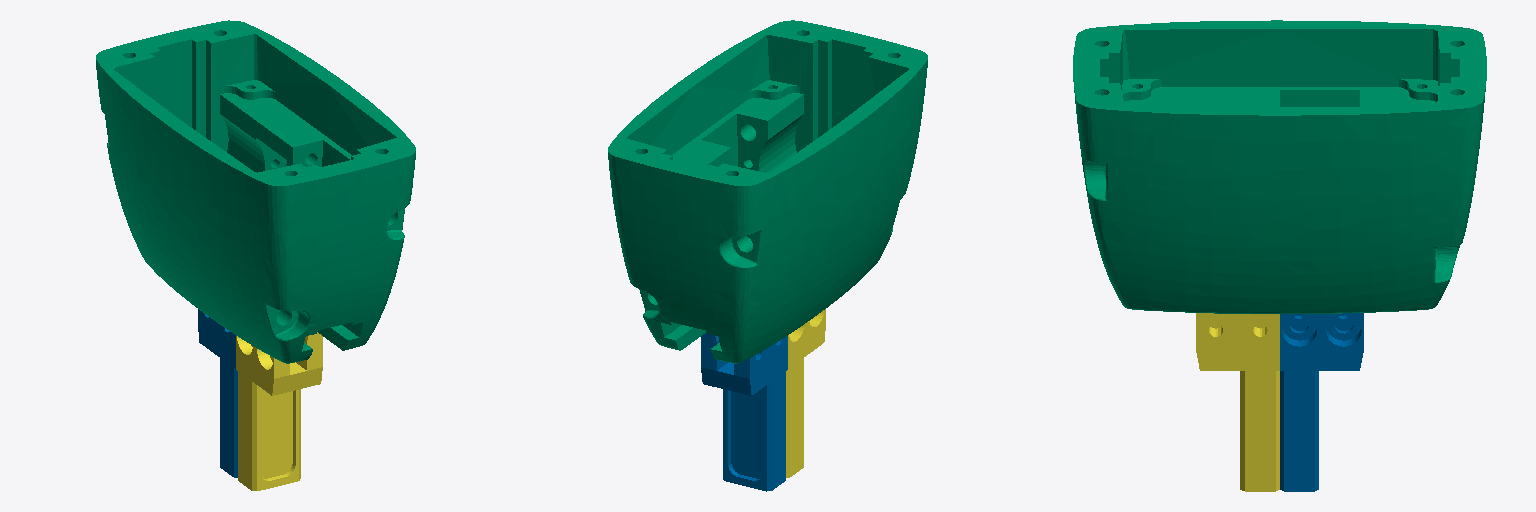
The robot description file, URDF, robot "motoman_motomini":
<?xml version="1.0" ?>
<!-- =================================================================================== -->
<!-- |    This document was autogenerated by xacro from motoman_description/robots/motomini/motomini_with_gripper.urdf.xacro | -->
<!-- |    EDITING THIS FILE BY HAND IS NOT RECOMMENDED                                 | -->
<!-- =================================================================================== -->
<robot name="motoman_motomini" xmlns:controller="http://playerstage.sourceforge.net/gazebo/xmlschema/#controller" xmlns:interface="http://playerstage.sourceforge.net/gazebo/xmlschema/#interface" xmlns:sensor="http://playerstage.sourceforge.net/gazebo/xmlschema/#sensor" xmlns:xacro="http://ros.org/wiki/xacro">
  <material name="black">
    <color rgba="0.0 0.0 0.0 1.0"/>
  </material>
  <material name="blue">
    <color rgba="0.0 0.0 0.8 1.0"/>
  </material>
  <material name="green">
    <color rgba="0.0 0.8 0.0 1.0"/>
  </material>
  <material name="grey">
    <color rgba="0.2 0.2 0.2 1.0"/>
  </material>
  <material name="orange">
    <color rgba="1.0 0.423529411765 0.0392156862745 1.0"/>
  </material>
  <material name="brown">
    <color rgba="0.870588235294 0.811764705882 0.764705882353 1.0"/>
  </material>
  <material name="red">
    <color rgba="0.8 0.0 0.0 1.0"/>
  </material>
  <material name="white">
    <color rgba="1.0 1.0 1.0 1.0"/>
  </material>
  <material name="yaskawa_blue">
    <color rgba="0.12941 0.14902 0.74902 1"/>
  </material>
  <link name="base_link">
    <visual>
      <geometry>
        <mesh filename="package://motoman_description/meshes/motomini/visual/base_link.stl"/>
      </geometry>
      <material name="yaskawa_blue"/>
    </visual>
    <collision>
      <geometry>
        <mesh filename="package://motoman_description/meshes/motomini/collision/base_link.stl"/>
      </geometry>
    </collision>
    <inertial>
      <origin rpy="0 0 0" xyz="0 0 0"/>
      <mass value="1.57894736842"/>
      <inertia ixx="0.00335213815789" ixy="0" ixz="0" iyy="0.00796650131579" iyz="0" izz="0.00866067894737"/>
    </inertial>
  </link>
  <link name="link_1_s">
    <visual>
      <geometry>
        <mesh filename="package://motoman_description/meshes/motomini/visual/link_1_s.stl"/>
      </geometry>
      <material name="yaskawa_blue"/>
    </visual>
    <collision>
      <geometry>
        <mesh filename="package://motoman_description/meshes/motomini/collision/link_1_s.stl"/>
      </geometry>
    </collision>
    <inertial>
      <origin rpy="0 0 0" xyz="0 0 0"/>
      <mass value="1.57894736842"/>
      <inertia ixx="0.00457279605263" ixy="0" ixz="0" iyy="0.00462006578947" iyz="0" izz="0.00377384868421"/>
    </inertial>
  </link>
  <link name="link_2_l">
    <visual>
      <geometry>
        <mesh filename="package://motoman_description/meshes/motomini/visual/link_2_l.stl"/>
      </geometry>
      <material name="yaskawa_blue"/>
    </visual>
    <collision>
      <geometry>
        <mesh filename="package://motoman_description/meshes/motomini/collision/link_2_l.stl"/>
      </geometry>
    </collision>
    <inertial>
      <origin rpy="0 0 0" xyz="0 0 0"/>
      <mass value="1.57894736842"/>
      <inertia ixx="0.00386766842105" ixy="0" ixz="0" iyy="0.0101251894737" iyz="0" izz="0.00928168947368"/>
    </inertial>
  </link>
  <link name="link_3_u">
    <visual>
      <geometry>
        <mesh filename="package://motoman_description/meshes/motomini/visual/link_3_u.stl"/>
      </geometry>
      <material name="yaskawa_blue"/>
    </visual>
    <collision>
      <geometry>
        <mesh filename="package://motoman_description/meshes/motomini/collision/link_3_u.stl"/>
      </geometry>
    </collision>
    <inertial>
      <origin rpy="0 0 0" xyz="0 0 0"/>
      <mass value="0.526315789474"/>
      <inertia ixx="0.000554353070175" ixy="0" ixz="0" iyy="0.000830310964912" iyz="0" izz="0.000743414035088"/>
    </inertial>
  </link>
  <link name="link_4_r">
    <visual>
      <geometry>
        <mesh filename="package://motoman_description/meshes/motomini/visual/link_4_r.stl"/>
      </geometry>
      <material name="yaskawa_blue"/>
    </visual>
    <collision>
      <geometry>
        <mesh filename="package://motoman_description/meshes/motomini/collision/link_4_r.stl"/>
      </geometry>
    </collision>
    <inertial>
      <origin rpy="0 0 0" xyz="0 0 0"/>
      <mass value="0.526315789474"/>
      <inertia ixx="0.00194845350877" ixy="0" ixz="0" iyy="0.00193777412281" iyz="0" izz="0.000769363596491"/>
    </inertial>
  </link>
  <link name="link_5_b">
    <visual>
      <geometry>
        <mesh filename="package://motoman_description/meshes/motomini/visual/link_5_b.stl"/>
      </geometry>
      <material name="yaskawa_blue"/>
    </visual>
    <collision>
      <geometry>
        <mesh filename="package://motoman_description/meshes/motomini/collision/link_5_b.stl"/>
      </geometry>
    </collision>
    <inertial>
      <origin rpy="0 0 0" xyz="0 0 0"/>
      <mass value="0.526315789474"/>
      <inertia ixx="0.000357912719298" ixy="0" ixz="0" iyy="0.000421600877193" iyz="0" izz="0.000493512719298"/>
    </inertial>
  </link>
  <link name="link_6_t">
    <visual>
      <geometry>
        <mesh filename="package://motoman_description/meshes/motomini/visual/link_6_t.stl"/>
      </geometry>
      <material name="yaskawa_blue"/>
    </visual>
    <collision>
      <geometry>
        <mesh filename="package://motoman_description/meshes/motomini/collision/link_6_t.stl"/>
      </geometry>
    </collision>
    <inertial>
      <origin rpy="0 0 0" xyz="0 0 0"/>
      <mass value="0.684210526316"/>
      <inertia ixx="7.1899122807e-05" ixy="0" ixz="0" iyy="7.1899122807e-05" iyz="0" izz="0.000102631578947"/>
    </inertial>
  </link>
  <link name="tool0"/>
  <!-- end of link list -->
  <joint name="joint_1_s" type="revolute">
    <parent link="base_link"/>
    <child link="link_1_s"/>
    <origin rpy="0 0 0" xyz="0 0 0.103"/>
    <axis xyz="0 0 1"/>
    <limit effort="0.12" lower="-2.967" upper="2.967" velocity="5.4977"/>
  </joint>
  <joint name="joint_2_l" type="revolute">
    <parent link="link_1_s"/>
    <child link="link_2_l"/>
    <origin rpy="0 0 0" xyz="0.020 0 0"/>
    <axis xyz="0 1 0"/>
    <limit effort="0.12" lower="-1.4835" upper="1.5707" velocity="5.4977"/>
  </joint>
  <joint name="joint_3_u" type="revolute">
    <parent link="link_2_l"/>
    <child link="link_3_u"/>
    <origin rpy="0 0 0" xyz="0 0 0.165"/>
    <axis xyz="0 -1 0"/>
    <limit effort="0.12" lower="-0.8726" upper="1.5707" velocity="7.3304"/>
  </joint>
  <joint name="joint_4_r" type="revolute">
    <parent link="link_3_u"/>
    <child link="link_4_r"/>
    <origin rpy="0 0 0" xyz="0.165 0 0"/>
    <axis xyz="-1 0 0"/>
    <limit effort="0.07" lower="-2.4434" upper="2.4434" velocity="10.4719"/>
  </joint>
  <joint name="joint_5_b" type="revolute">
    <parent link="link_4_r"/>
    <child link="link_5_b"/>
    <origin rpy="0 0 0" xyz="0 0 0"/>
    <axis xyz="0 -1 0"/>
    <limit effort="0.07" lower="-0.5235" upper="3.6651" velocity="10.4719"/>
  </joint>
  <joint name="joint_6_t" type="revolute">
    <parent link="link_5_b"/>
    <child link="link_6_t"/>
    <origin rpy="0 0 0" xyz="0 0 0"/>
    <axis xyz="0 0 1"/>
    <limit effort="0.07" lower="-6.2831" upper="6.2831" velocity="10.4719"/>
  </joint>
  <joint name="joint_6_t-tool0" type="fixed">
    <origin rpy="3.14159265359 0 0" xyz="0 0 -0.040 "/>
    <parent link="link_6_t"/>
    <child link="tool0"/>
  </joint>
  <!-- end of joint list -->
  <!-- ROS base_link to Robot Manufacturer World Coordinates transform -->
  <link name="base"/>
  <joint name="base_link-base" type="fixed">
    <origin rpy="0 0 0" xyz="0 0 0.103"/>
    <parent link="base_link"/>
    <child link="base"/>
  </joint>
  <transmission name="transmission_1_s">
    <type>transmission_interface/SimpleTransmission</type>
    <joint name="joint_1_s">
      <hardwareInterface>hardware_interface/PositionJointInterface</hardwareInterface>
    </joint>
    <actuator name="motor_1_s">
      <hardwareInterface>hardware_interface/PositionJointInterface</hardwareInterface>
      <mechanicalReduction>300</mechanicalReduction>
    </actuator>
  </transmission>
  <transmission name="transmission_2_l">
    <type>transmission_interface/SimpleTransmission</type>
    <joint name="joint_2_l">
      <hardwareInterface>hardware_interface/PositionJointInterface</hardwareInterface>
    </joint>
    <actuator name="motor_2_l">
      <hardwareInterface>hardware_interface/PositionJointInterface</hardwareInterface>
      <mechanicalReduction>300</mechanicalReduction>
    </actuator>
  </transmission>
  <transmission name="transmission_3_u">
    <type>transmission_interface/SimpleTransmission</type>
    <joint name="joint_3_u">
      <hardwareInterface>hardware_interface/PositionJointInterface</hardwareInterface>
    </joint>
    <actuator name="motor_3_u">
      <hardwareInterface>hardware_interface/PositionJointInterface</hardwareInterface>
      <mechanicalReduction>50</mechanicalReduction>
    </actuator>
  </transmission>
  <transmission name="transmission_4_r">
    <type>transmission_interface/SimpleTransmission</type>
    <joint name="joint_4_r">
      <hardwareInterface>hardware_interface/PositionJointInterface</hardwareInterface>
    </joint>
    <actuator name="motor_4_r">
      <hardwareInterface>hardware_interface/PositionJointInterface</hardwareInterface>
      <mechanicalReduction>30</mechanicalReduction>
    </actuator>
  </transmission>
  <transmission name="transmission_5_b">
    <type>transmission_interface/SimpleTransmission</type>
    <joint name="joint_5_b">
      <hardwareInterface>hardware_interface/PositionJointInterface</hardwareInterface>
    </joint>
    <actuator name="motor_5_b">
      <hardwareInterface>hardware_interface/PositionJointInterface</hardwareInterface>
      <mechanicalReduction>30</mechanicalReduction>
    </actuator>
  </transmission>
  <transmission name="transmission_6_t">
    <type>transmission_interface/SimpleTransmission</type>
    <joint name="joint_6_t">
      <hardwareInterface>hardware_interface/PositionJointInterface</hardwareInterface>
    </joint>
    <actuator name="motor_6_t">
      <hardwareInterface>hardware_interface/PositionJointInterface</hardwareInterface>
      <mechanicalReduction>10</mechanicalReduction>
    </actuator>
  </transmission>
  <!-- gazebo -->
  <gazebo>
    <plugin filename="libgazebo_ros_control.so" name="gazebo_ros_control">
      <robotSimType>gazebo_ros_control/DefaultRobotHWSim</robotSimType>
    </plugin>
  </gazebo>
  <gazebo reference="base_link">
    <mu1>0.2</mu1>
    <mu2>0.2</mu2>
    <selfCollide>false</selfCollide>
    <material>Gazebo/Blue</material>
  </gazebo>
  <gazebo reference="link_1_s">
    <mu1>0.2</mu1>
    <mu2>0.2</mu2>
    <selfCollide>false</selfCollide>
    <material>Gazebo/Blue</material>
  </gazebo>
  <gazebo reference="link_2_l">
    <mu1>0.2</mu1>
    <mu2>0.2</mu2>
    <selfCollide>false</selfCollide>
    <material>Gazebo/Blue</material>
  </gazebo>
  <gazebo reference="link_3_u">
    <mu1>0.2</mu1>
    <mu2>0.2</mu2>
    <selfCollide>false</selfCollide>
    <material>Gazebo/Blue</material>
  </gazebo>
  <gazebo reference="link_4_r">
    <mu1>0.2</mu1>
    <mu2>0.2</mu2>
    <selfCollide>false</selfCollide>
    <material>Gazebo/Blue</material>
  </gazebo>
  <gazebo reference="link_5_b">
    <mu1>0.2</mu1>
    <mu2>0.2</mu2>
    <selfCollide>false</selfCollide>
    <material>Gazebo/Blue</material>
  </gazebo>
  <gazebo reference="link_6_t">
    <mu1>0.2</mu1>
    <mu2>0.2</mu2>
    <selfCollide>false</selfCollide>
    <material>Gazebo/Blue</material>
  </gazebo>
  <link name="world"/>
  <joint name="world" type="fixed">
    <origin rpy="0 0 0" xyz="0 0 0.067"/>
    <parent link="world"/>
    <child link="base_link"/>
  </joint>
  <!-- joint between arm_7_link and sdh_palm_link -->
  <joint name="gripper_palm_joint" type="fixed">
    <origin rpy="0 0 0" xyz="0 0 0.035"/>
    <parent link="tool0"/>
    <child link="gripper_palm_link"/>
  </joint>
  <link name="gripper_palm_link">
    <inertial>
      <origin rpy="0 0 0" xyz="0 0 0"/>
      <mass value="0.1"/>
      <inertia ixx="0.01" ixy="0" ixz="0" iyy="0.01" iyz="0" izz="0.01"/>
    </inertial>
    <visual>
      <origin rpy="0 0 0" xyz="0 0 0"/>
      <geometry>
        <mesh filename="package://motoman_description/meshes/tool/palm.stl"/>
      </geometry>
      <material name="Black"/>
    </visual>
    <collision>
      <origin rpy="0 0 0" xyz="0 0 0"/>
      <geometry>
        <!--<box size="0.050 0.094 0.054"/>-->
        <mesh filename="package://motoman_description/meshes/tool/palm_convex.stl"/>
      </geometry>
    </collision>
  </link>
  <joint name="gripper_finger_joint_l" type="prismatic">
    <origin rpy="0 0 3.14159274" xyz="0.004 0.008 0.046"/>
    <parent link="gripper_palm_link"/>
    <child link="gripper_finger_link_l"/>
    <axis xyz="0 -1 0"/>
    <dynamics damping="1.0" friction="1.0"/>
    <limit effort="2" lower="0" upper="0.03" velocity="0.1"/>
    <safety_controller k_position="20" k_velocity="25" soft_lower_limit="0.001" soft_upper_limit="0.0295"/>
  </joint>
  <link name="gripper_finger_link_l">
    <inertial>
      <origin rpy="0 0 0" xyz="0 -0.001 0"/>
      <mass value="0.01"/>
      <inertia ixx="0.01" ixy="0" ixz="0" iyy="0.01" iyz="0" izz="0.01"/>
    </inertial>
    <visual>
      <origin rpy="0 0 0" xyz="0 0 0"/>
      <geometry>
        <mesh filename="package://motoman_description/meshes/tool/finger.stl"/>
      </geometry>
      <material name="Black"/>
    </visual>
    <collision>
      <origin rpy="0 0 0" xyz="0 0 0"/>
      <geometry>
        <!--<box size="0.014 0.020 0.046"/>-->
        <mesh filename="package://motoman_description/meshes/tool/finger_convex.stl"/>
      </geometry>
    </collision>
  </link>
  <joint name="gripper_finger_joint_r" type="prismatic">
    <origin rpy="0 0 0" xyz="0.004 -0.008 0.046"/>
    <parent link="gripper_palm_link"/>
    <child link="gripper_finger_link_r"/>
    <axis xyz="0 -1 0"/>
    <dynamics damping="1.0" friction="1.0"/>
    <limit effort="2" lower="0" upper="0.03" velocity="0.1"/>
    <safety_controller k_position="20" k_velocity="25" soft_lower_limit="0.001" soft_upper_limit="0.0295"/>
  </joint>
  <link name="gripper_finger_link_r">
    <inertial>
      <origin rpy="0 0 0" xyz="0.000 -0.001 0"/>
      <mass value="0.01"/>
      <inertia ixx="0.01" ixy="0" ixz="0" iyy="0.01" iyz="0" izz="0.01"/>
    </inertial>
    <visual>
      <origin rpy="0 0 0" xyz="0 0 0"/>
      <geometry>
        <mesh filename="package://motoman_description/meshes/tool/finger.stl"/>
      </geometry>
      <material name="Black"/>
    </visual>
    <collision>
      <origin rpy="0 0 0" xyz="0.000 0 0"/>
      <geometry>
        <!--<box size="0.014 0.020 0.046"/>-->
        <mesh filename="package://motoman_description/meshes/tool/finger_convex.stl"/>
      </geometry>
    </collision>
  </link>
  <gazebo reference="gripper_palm_link">
    <material>Gazebo/Black</material>
    <turnGravityOff>false</turnGravityOff>
    <selfCollide>true</selfCollide>
  </gazebo>
  <gazebo reference="gripper_finger_l_link">
    <material>Gazebo/Black</material>
    <turnGravityOff>false</turnGravityOff>
    <selfCollide>true</selfCollide>
    <mu1>1.0</mu1>
    <mu2>1.0</mu2>
    <maxContacts>100</maxContacts>
  </gazebo>
  <gazebo reference="gripper_finger_r_link">
    <material>Gazebo/Black</material>
    <turnGravityOff>false</turnGravityOff>
    <selfCollide>true</selfCollide>
    <mu1>1.0</mu1>
    <mu2>1.0</mu2>
    <maxContacts>100</maxContacts>
  </gazebo>
  <transmission name="gripper_finger_l_trans">
    <type>transmission_interface/SimpleTransmission</type>
    <actuator name="gripper_finger_l_motor">
      <hardwareInterface>hardware_interface/EffortJointInterface</hardwareInterface>
      <mechanicalReduction>1</mechanicalReduction>
    </actuator>
    <joint name="gripper_finger_joint_l">
      <hardwareInterface>hardware_interface/EffortJointInterface</hardwareInterface>
    </joint>
  </transmission>
  <transmission name="gripper_finger_r_trans">
    <type>transmission_interface/SimpleTransmission</type>
    <actuator name="gripper_finger_r_motor">
      <hardwareInterface>hardware_interface/EffortJointInterface</hardwareInterface>
      <mechanicalReduction>1</mechanicalReduction>
    </actuator>
    <joint name="gripper_finger_joint_r">
      <hardwareInterface>hardware_interface/EffortJointInterface</hardwareInterface>
    </joint>
  </transmission>
</robot>

--- Facts derived from the render (not from the file) ---
The picture shows the robot from 3 angles, left to right: view 1: azimuth 30°, elevation 25°; view 2: azimuth 150°, elevation 25°; view 3: azimuth 270°, elevation 25°; orthographic projection.
Robot: motoman_motomini — 13 links, 12 joints (6 revolute, 2 prismatic, 4 fixed); root link world; default pose: all joints at 0.
Visible links, largest first — view 1: gripper_palm_link, gripper_finger_link_l, gripper_finger_link_r; view 2: gripper_palm_link, gripper_finger_link_r, gripper_finger_link_l; view 3: gripper_palm_link, gripper_finger_link_l, gripper_finger_link_r.
Boxes of the visible links, x1,y1,x2,y2 form: gripper_palm_link: [96, 20, 415, 363]; gripper_finger_link_l: [236, 332, 322, 490]; gripper_finger_link_r: [198, 309, 237, 477]; gripper_palm_link: [608, 20, 927, 363]; gripper_finger_link_r: [701, 333, 787, 491]; gripper_finger_link_l: [786, 309, 825, 477]; gripper_palm_link: [1073, 20, 1486, 313]; gripper_finger_link_l: [1196, 313, 1279, 491]; gripper_finger_link_r: [1280, 313, 1363, 491].
Bounding box of the posed robot: 0.0507 × 0.0932 × 0.1014 m (x, y, z).
3 mesh visuals loaded from 9 distinct referenced files (2 binary STL); not drawn: 7 (reference not matched to a file when rendering).